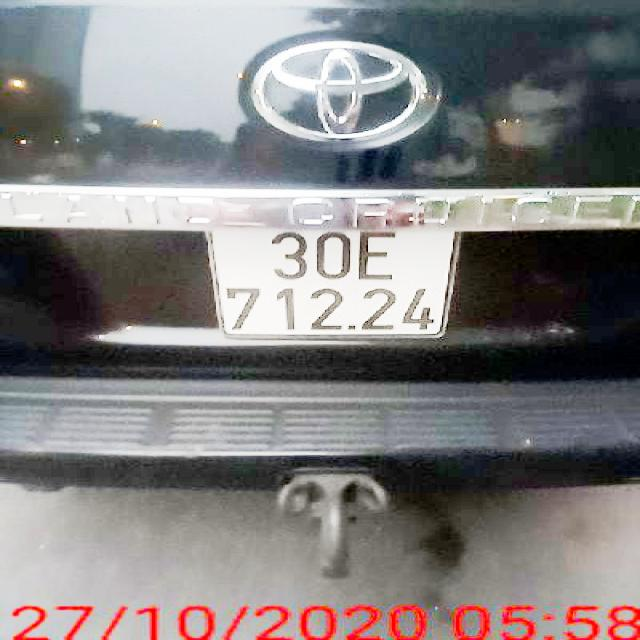license_plate: (219, 230, 454, 337)
